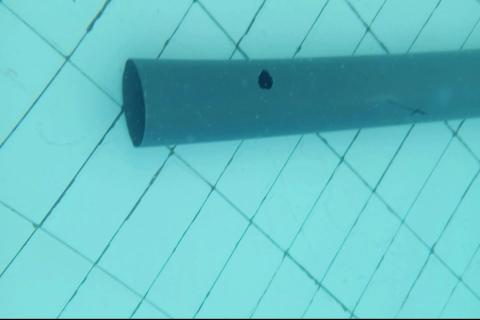kebocoran: (257, 68, 273, 89)
keretakan: (386, 98, 426, 116)
